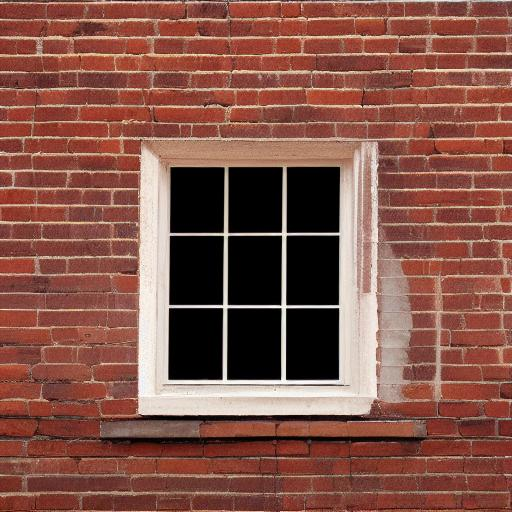Window: (97, 138, 428, 438)
